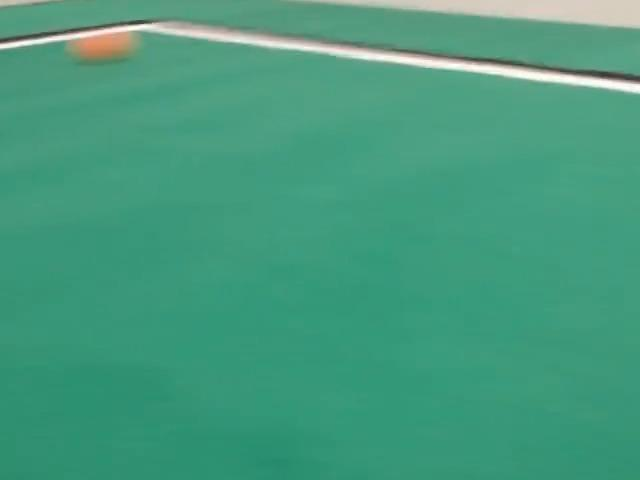Ball: (68, 32, 136, 61)
